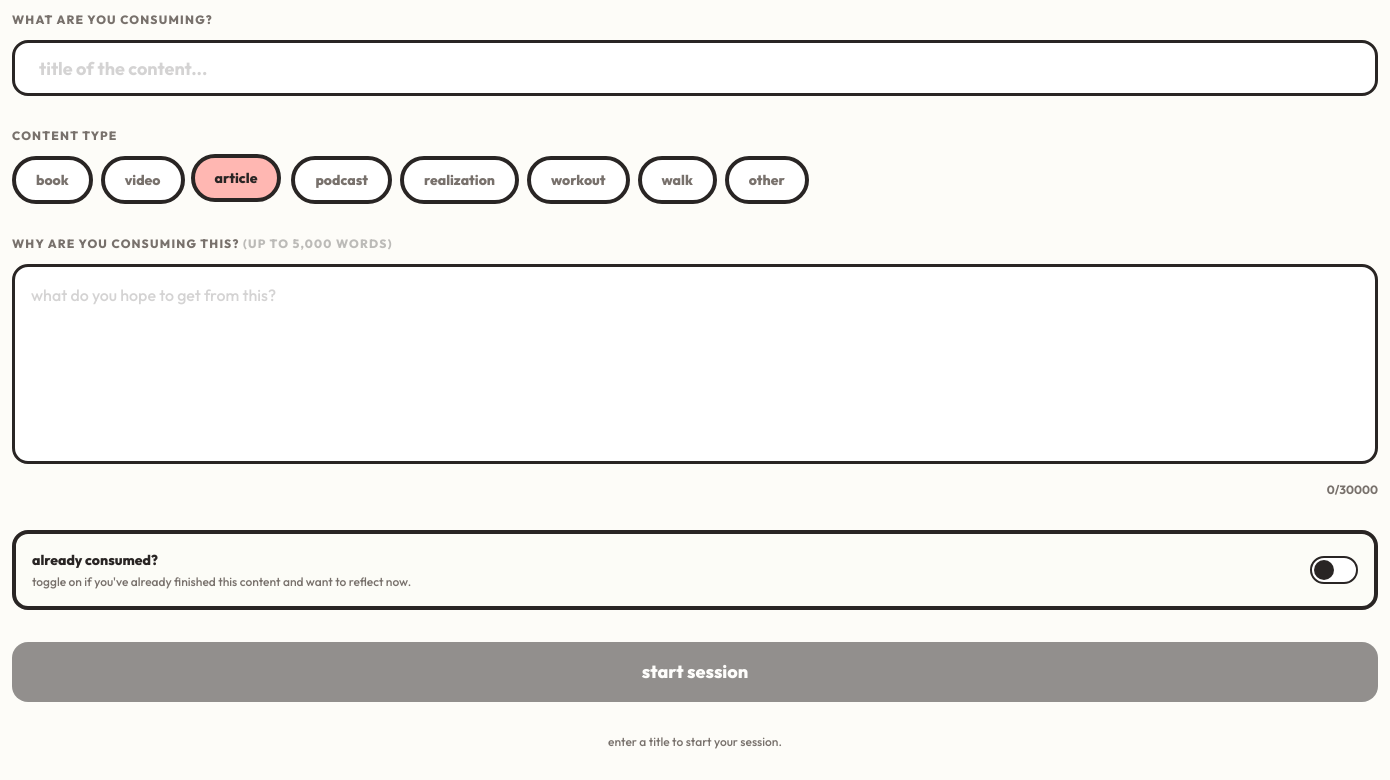
Test: SessionStartForm › submit button is enabled when title is filled
The image size is (1390, 780).
In the field with placeholder "title of the content...": point(695, 68) [12,40,1378,96], type "My Book"
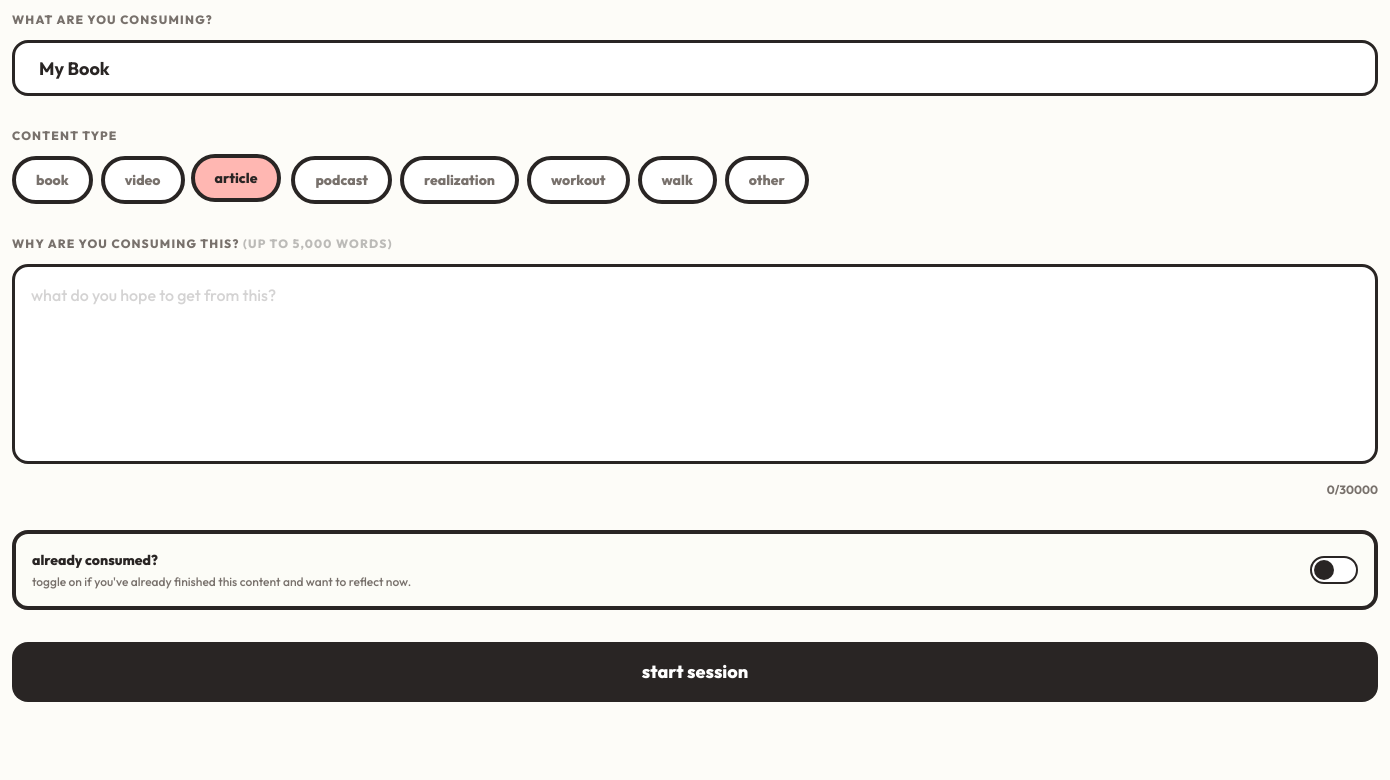
expect the button "start session" is enabled: met, box [12,642,1378,702]
